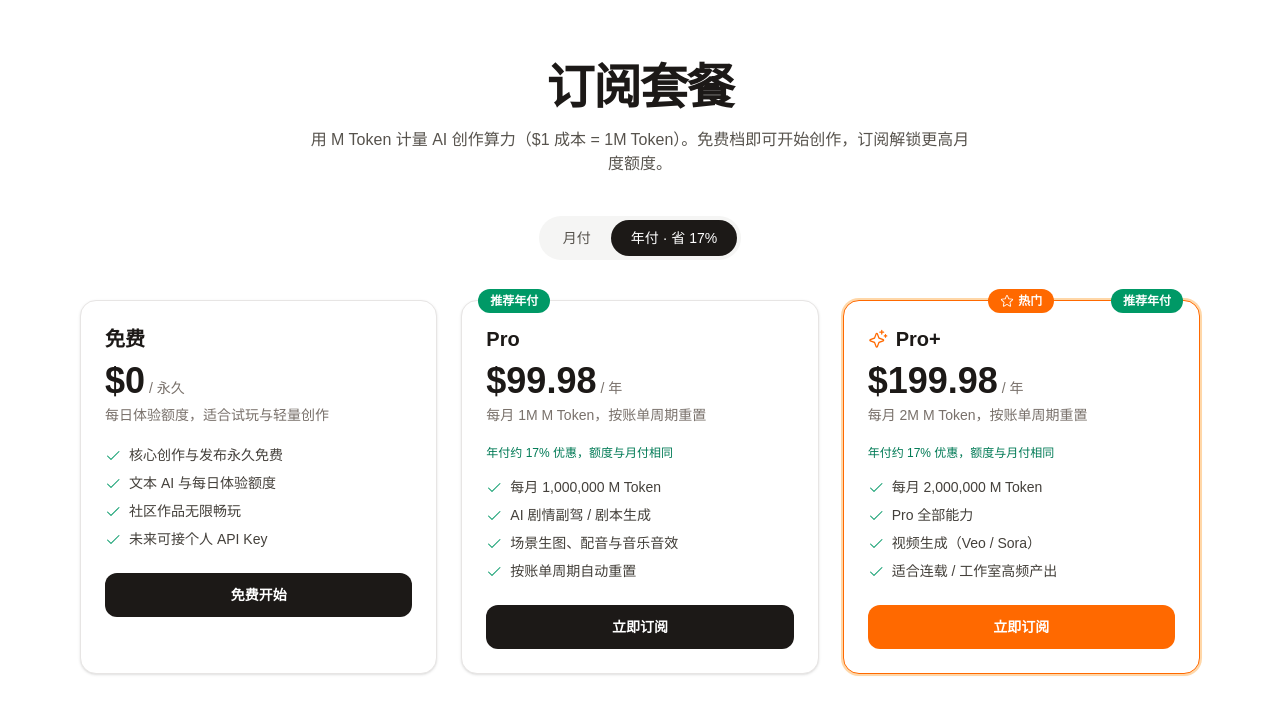
Test: PricingClient › 可切回月付
Click the button "月付".
click(577, 238)  # box [543,220,611,256]
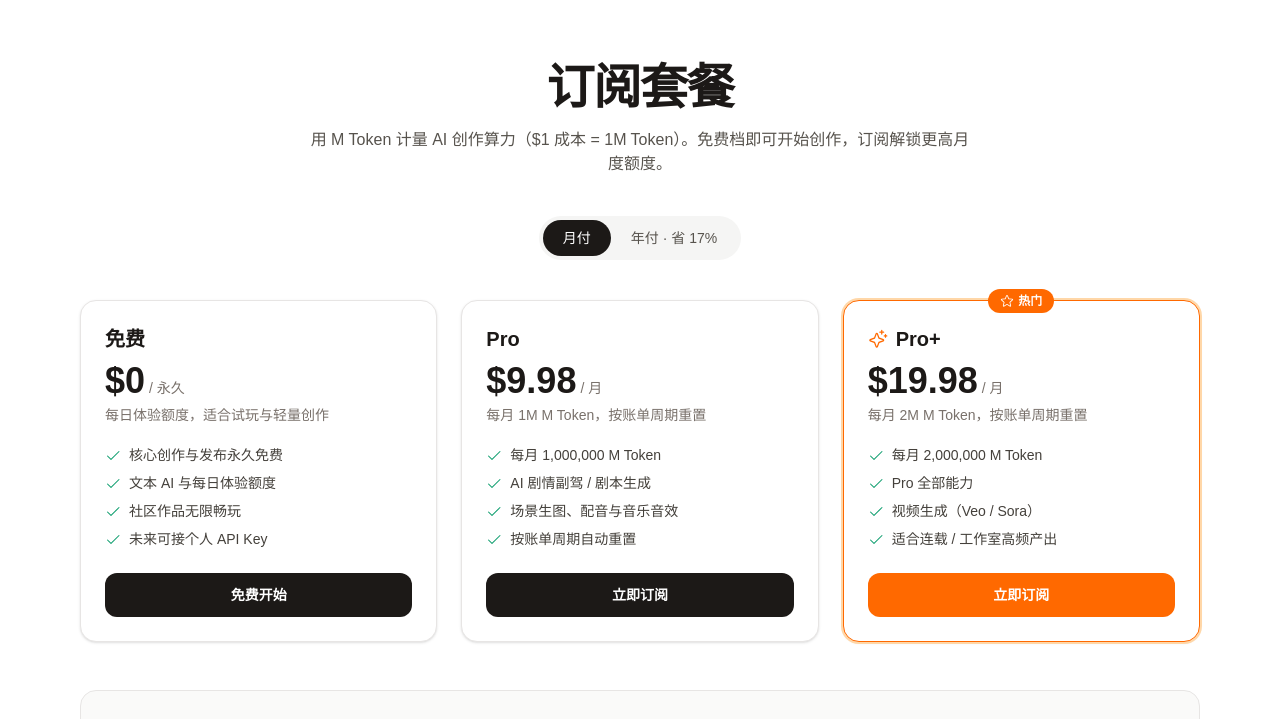
Now the text "/ 月" next to "$9.98" is shown, box [580,380,602,396]
